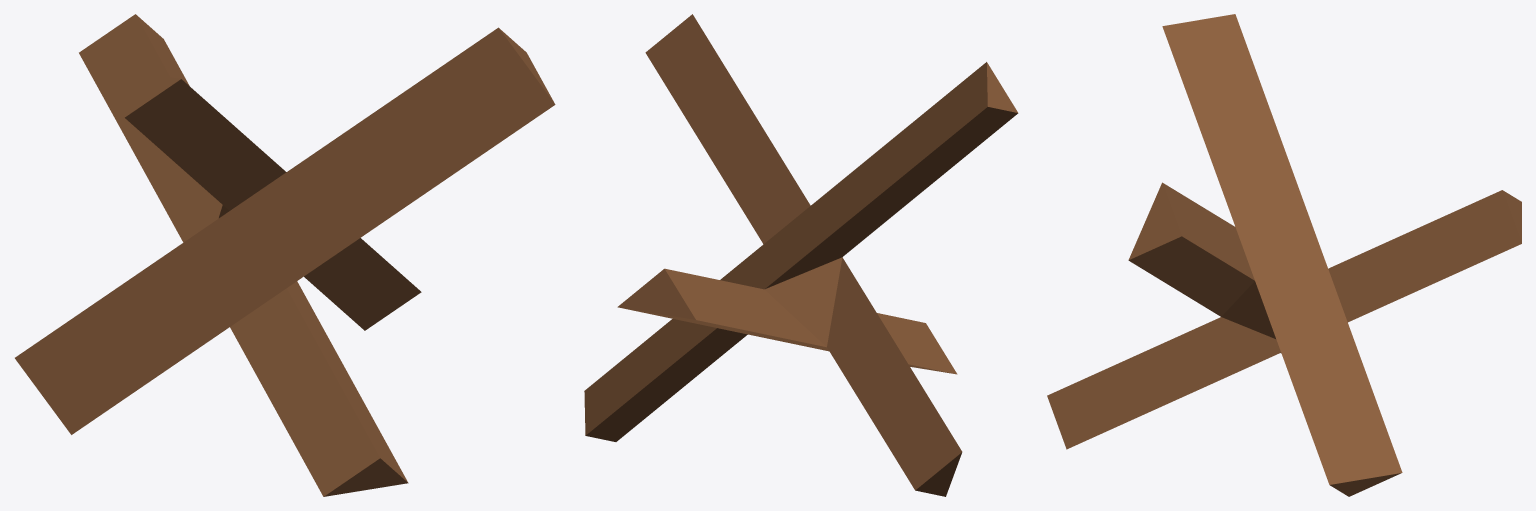
File: barricade-tank.glb
3 renders of one model, left to right at view 1: azimuth 30°, elevation 25°; view 2: azimuth 150°, elevation 25°; view 3: azimuth 270°, elevation 25°, orthographic. The views are drawn at different scales.
Parts seen in each view (by area): view 1: barricade-tank; view 2: barricade-tank; view 3: barricade-tank.
Part boxes in pixels (box(x1,y1,x2,y2)): barricade-tank: box(15, 14, 555, 496); barricade-tank: box(584, 14, 1018, 496); barricade-tank: box(1047, 14, 1521, 496).
Size of the model in its own units: 1.7 by 1.54 by 1.9.
Materials: 1 (1 with a texture image).
